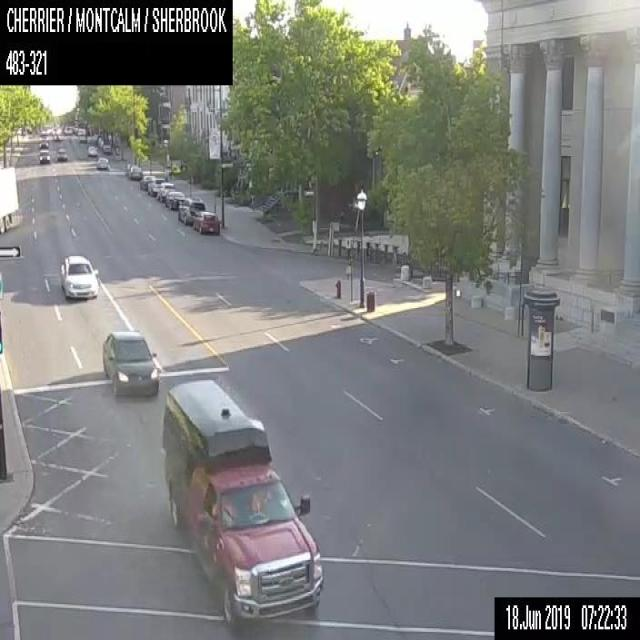vehicle: (161, 376, 324, 629), (102, 330, 159, 396), (59, 254, 99, 300), (0, 165, 19, 235), (192, 208, 220, 234), (178, 197, 204, 224), (165, 191, 185, 209), (156, 181, 173, 201), (147, 178, 164, 195), (140, 174, 154, 190), (127, 165, 141, 179), (95, 156, 108, 168), (38, 150, 50, 162), (56, 146, 66, 160), (101, 139, 110, 153), (87, 144, 97, 156), (38, 138, 49, 147), (79, 133, 87, 142), (53, 132, 62, 140), (64, 126, 73, 134), (124, 163, 130, 174)
